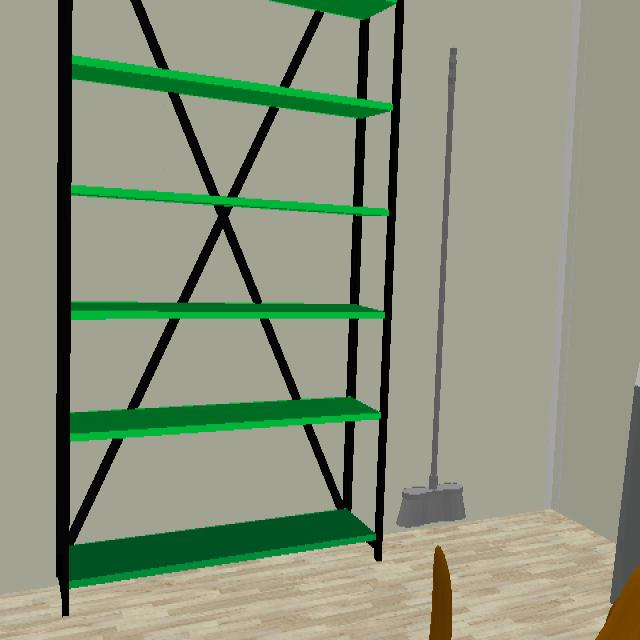shelf: (70, 508, 375, 586), (74, 57, 392, 118), (70, 397, 380, 441), (71, 185, 388, 216), (71, 302, 384, 320)
